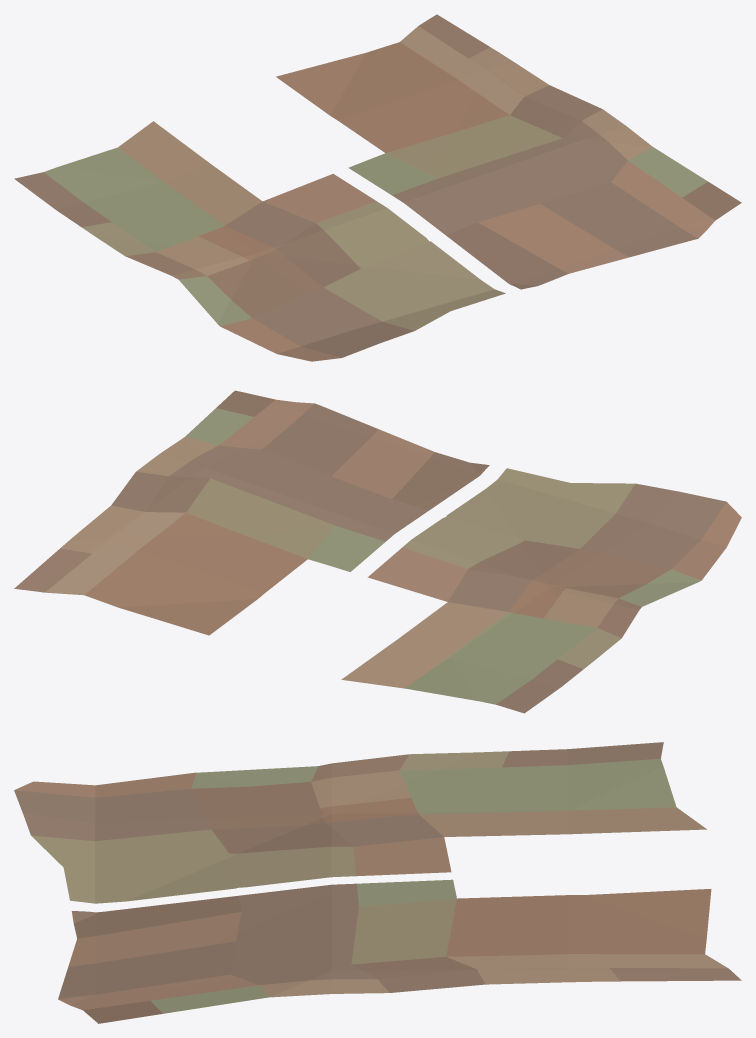
Rendered from farm_-35_-28_soil.glb.
The picture shows the model from 3 angles, top to bottom: view 1: azimuth 30°, elevation 25°; view 2: azimuth 150°, elevation 25°; view 3: azimuth 270°, elevation 25°; orthographic projection. The views are drawn at different scales.
Visible parts, largest first — view 1: geometry_0; view 2: geometry_0; view 3: geometry_0.
Boxes of the visible parts, x1,y1,x2,y2 form: geometry_0: (14, 14, 741, 361); geometry_0: (14, 390, 741, 713); geometry_0: (14, 742, 741, 1023).
Size of the model in its own units: 245 by 23.46 by 246.
